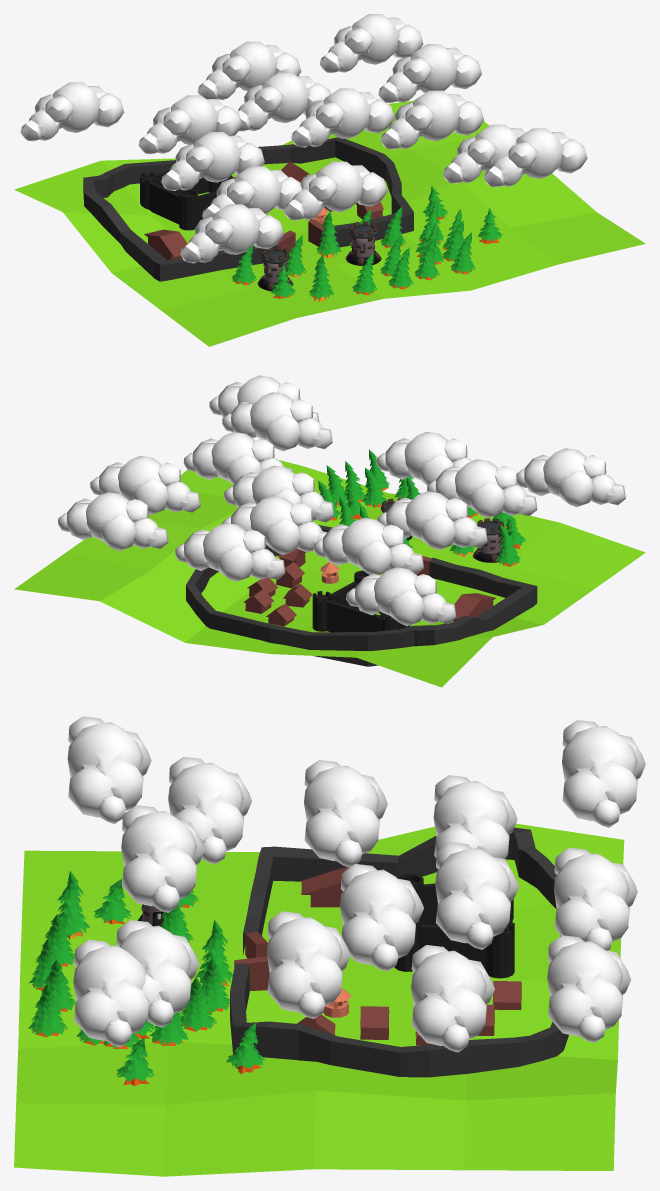
The picture shows the model from 3 angles, top to bottom: view 1: azimuth 30°, elevation 25°; view 2: azimuth 150°, elevation 25°; view 3: azimuth 270°, elevation 25°; orthographic projection. The views are drawn at different scales.
Parts seen in each view (by area): view 1: Plane, Cube, Object_2.004, Object_2.010, Object_2.003, Object_2.011, Object_2.009, Object_2.013, Object_2.008, Object_2.005, Object_2.001, Object_2.006 (+6 smaller); view 2: Plane, Cube, Object_2.012, Object_2.013, Object_2.011, Object_2.010, Object_2.006, Object_2.002, Object_2.005, Object_2, Object_2.008, Object_2.007 (+9 smaller); view 3: Plane, Cube, Object_2.011, Object_2.003, Object_2.008, Object_2.010, Object_2.009, Object_2.013, Object_2.007, Object_2.005, Object_2.004, Object_2.012 (+9 smaller).
Part boxes in pixels (x1,y1,x2,y2): Plane: (14,100,645,346); Cube: (83,137,413,281); Object_2.004: (291,88,394,147); Object_2.010: (180,204,283,263); Object_2.003: (380,90,484,149); Object_2.011: (20,82,124,141); Object_2.009: (284,161,387,220); Object_2.013: (319,14,423,72); Object_2.008: (378,44,481,103); Object_2.005: (161,132,264,190); Object_2.001: (484,128,587,187); Object_2.006: (138,95,242,154); Plane: (14,460,645,687); Cube: (186,525,537,666); Object_2.012: (175,523,285,581); Object_2.013: (58,492,168,550); Object_2.011: (346,567,456,626); Object_2.010: (517,448,625,507); Object_2.006: (313,517,423,575); Object_2.002: (222,392,332,451); Object_2.005: (377,491,487,550); Object_2: (427,459,537,518); Object_2.008: (90,455,200,514); Object_2.007: (222,495,327,554); Plane: (14,823,624,1176); Cube: (230,827,568,1077); Object_2.011: (562,720,645,827); Object_2.003: (267,911,350,1018); Object_2.008: (411,945,494,1052); Object_2.010: (67,716,151,823); Object_2.009: (121,805,205,912); Object_2.013: (547,935,631,1042); Object_2.007: (435,842,518,949); Object_2.005: (304,760,387,867); Object_2.004: (340,864,423,971); Object_2.012: (554,847,637,950).
Bounding box in the file's own units: 53.04 × 14.45 × 43.83.
